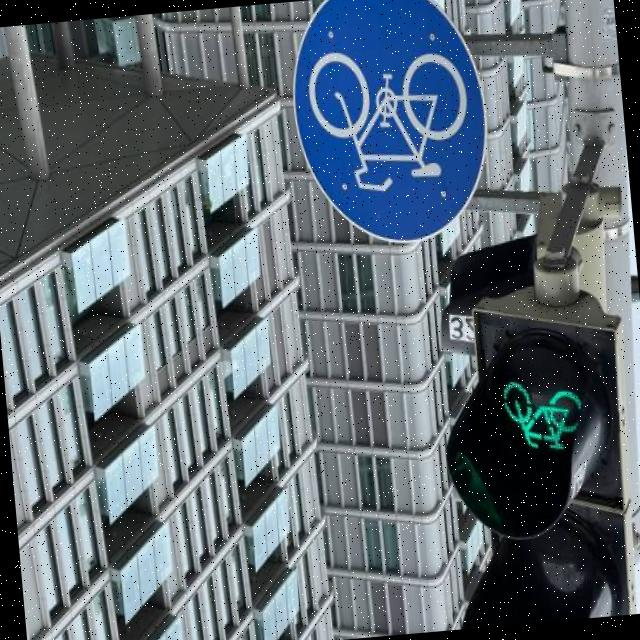bicycle: (273, 0, 509, 261)
